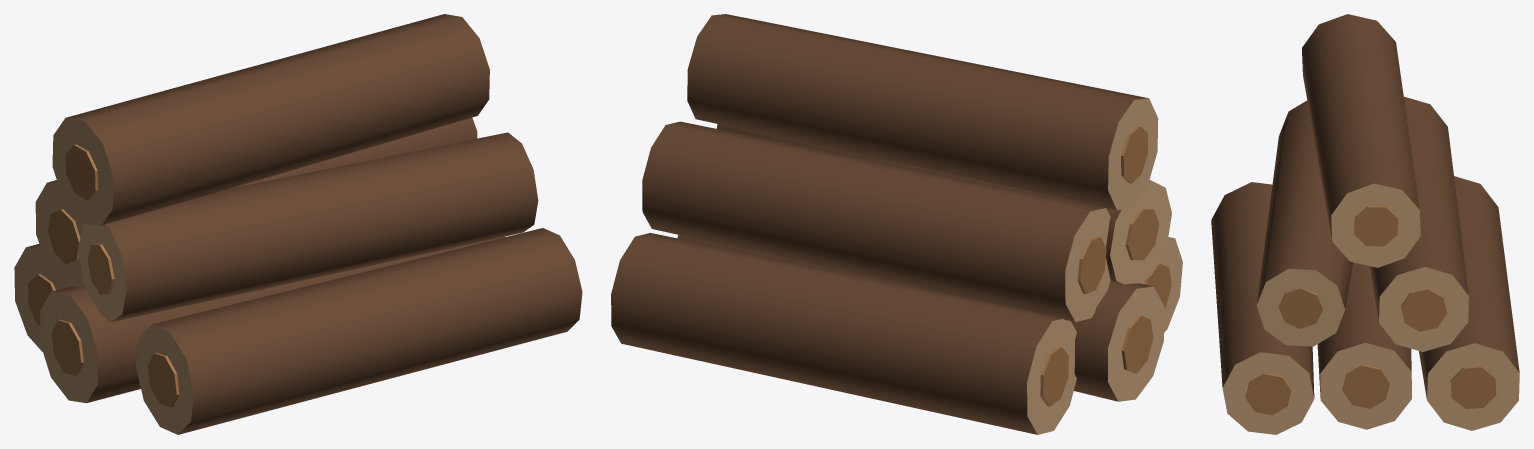
File: Res_LogPile.fbx
3 renders of one model, left to right at view 1: azimuth 30°, elevation 25°; view 2: azimuth 150°, elevation 25°; view 3: azimuth 270°, elevation 25°, orthographic. The views are drawn at different scales.
Visible parts, largest first — view 1: Res_LogPile; view 2: Res_LogPile; view 3: Res_LogPile.
Part boxes in pixels (x1=…): Res_LogPile: x1=14, y1=14, x2=582, y2=434; Res_LogPile: x1=611, y1=14, x2=1182, y2=434; Res_LogPile: x1=1211, y1=14, x2=1519, y2=434.
Size of the model in its own units: 0.9865 by 0.6058 by 0.6892.
